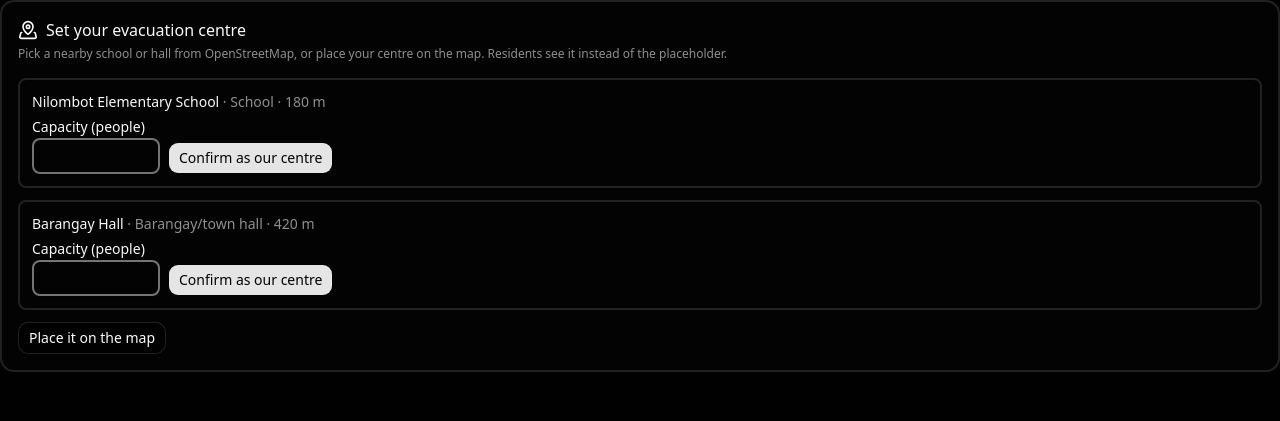
Scenario: ConfirmCentrePanel (idea 10) › lets an official confirm a suggestion as the barangay's centre, with a capacity
Expected: the text "Nilombot Elementary School" is shown, [32,92,219,111]
Type "300" into the number field labelled "Capacity (people)" below "Nilombot Elementary School" at (96, 156), box [32,138,160,174]
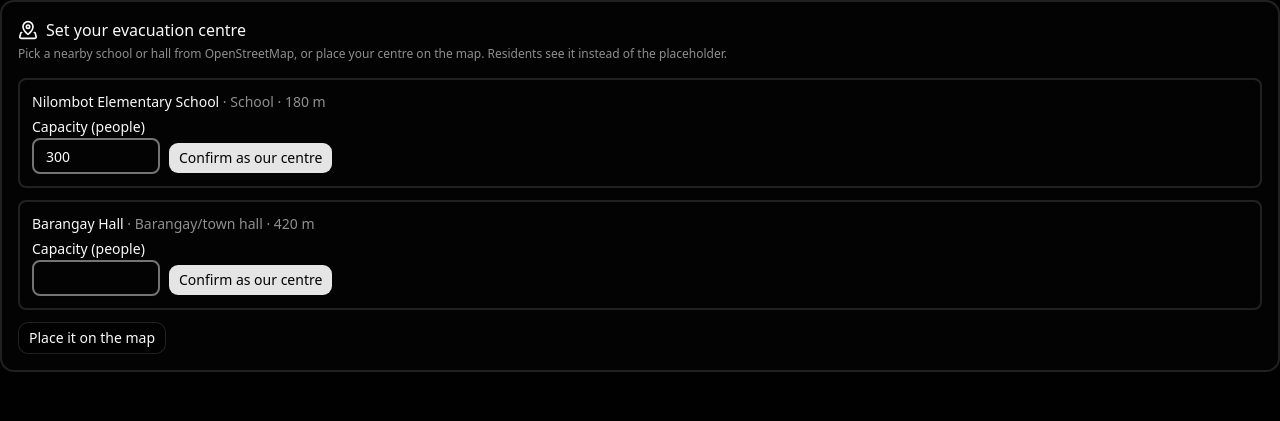
Click the button "Confirm as our centre" below "Nilombot Elementary School" at (251, 158), box [168,142,333,174]
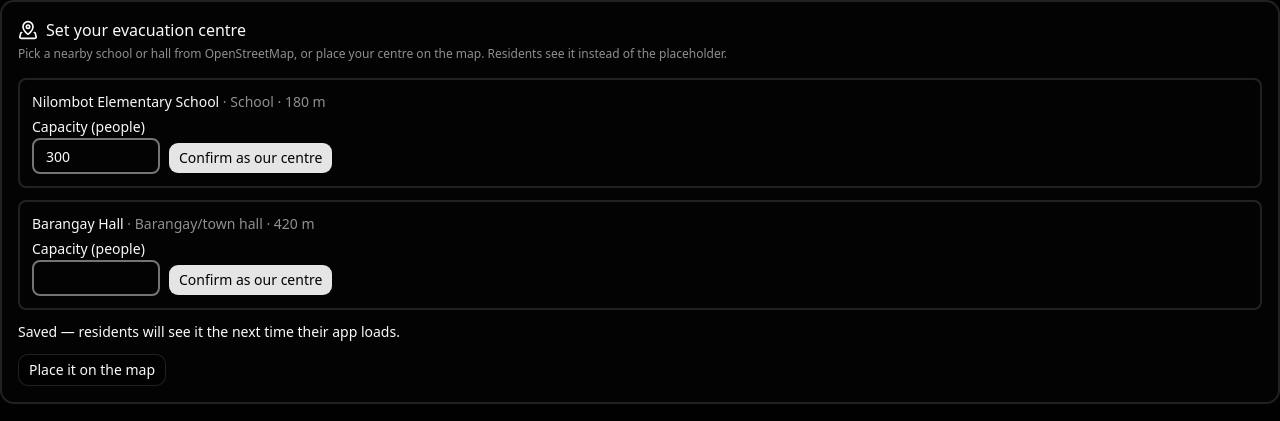
Result: the text "Saved — residents will see it the next time their app loads." is shown at [18,322,400,341]
